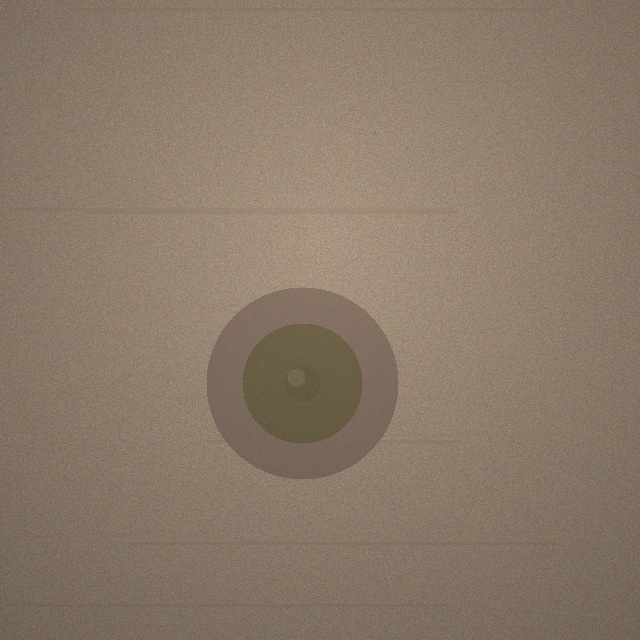good: (206, 287, 398, 479)
